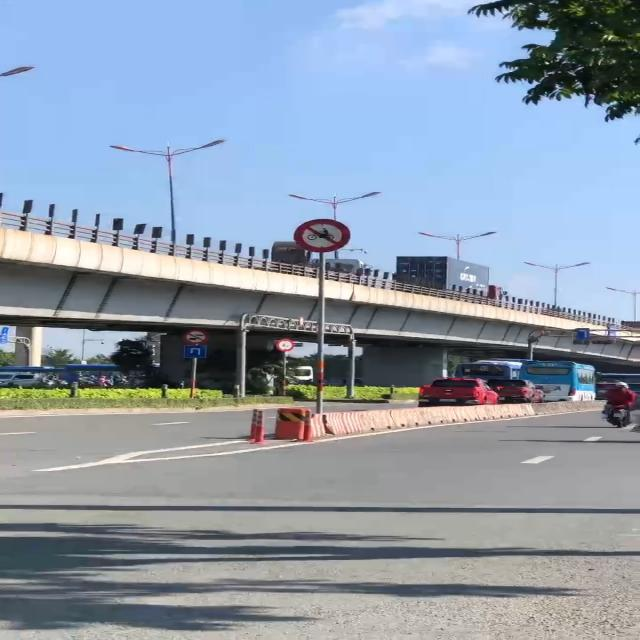Bien bao cam xe may: (292, 216, 353, 256)
Bien bao cam xe oto khach va xe oto tai: (180, 328, 210, 345)
